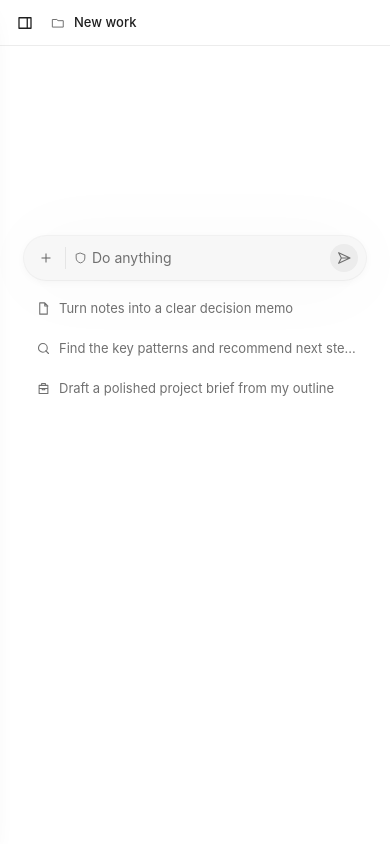
Test: Desktop product experience › keeps navigation reachable as a dismissible small-window sheet
Click the button named "Open navigation": (25, 22) [8,6,42,40]
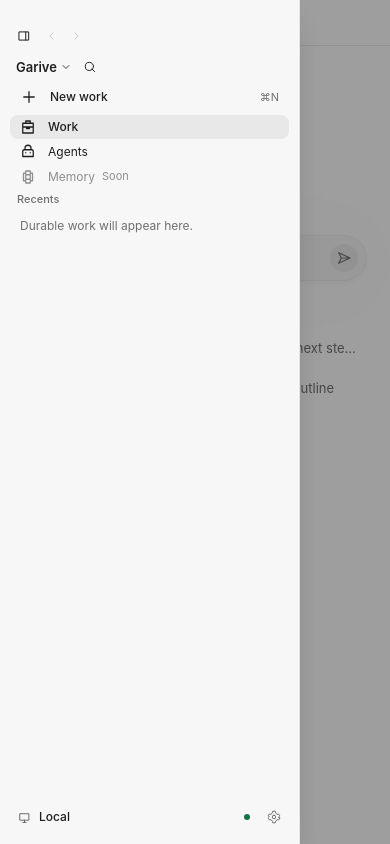
Expected: the button named "Open navigation" is expanded, [8,6,42,40]
Expected: the button named "Close navigation" is shown
Press Escape
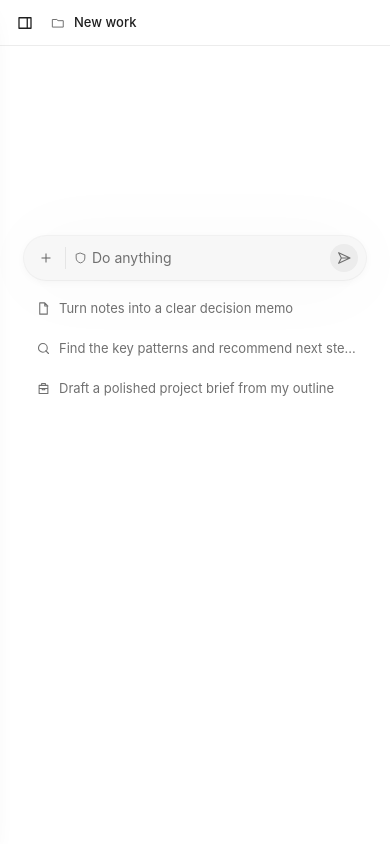
Expected: the button named "Open navigation" is collapsed, [8,6,42,40]
